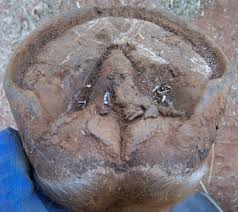horsesole: (4, 4, 234, 118)
